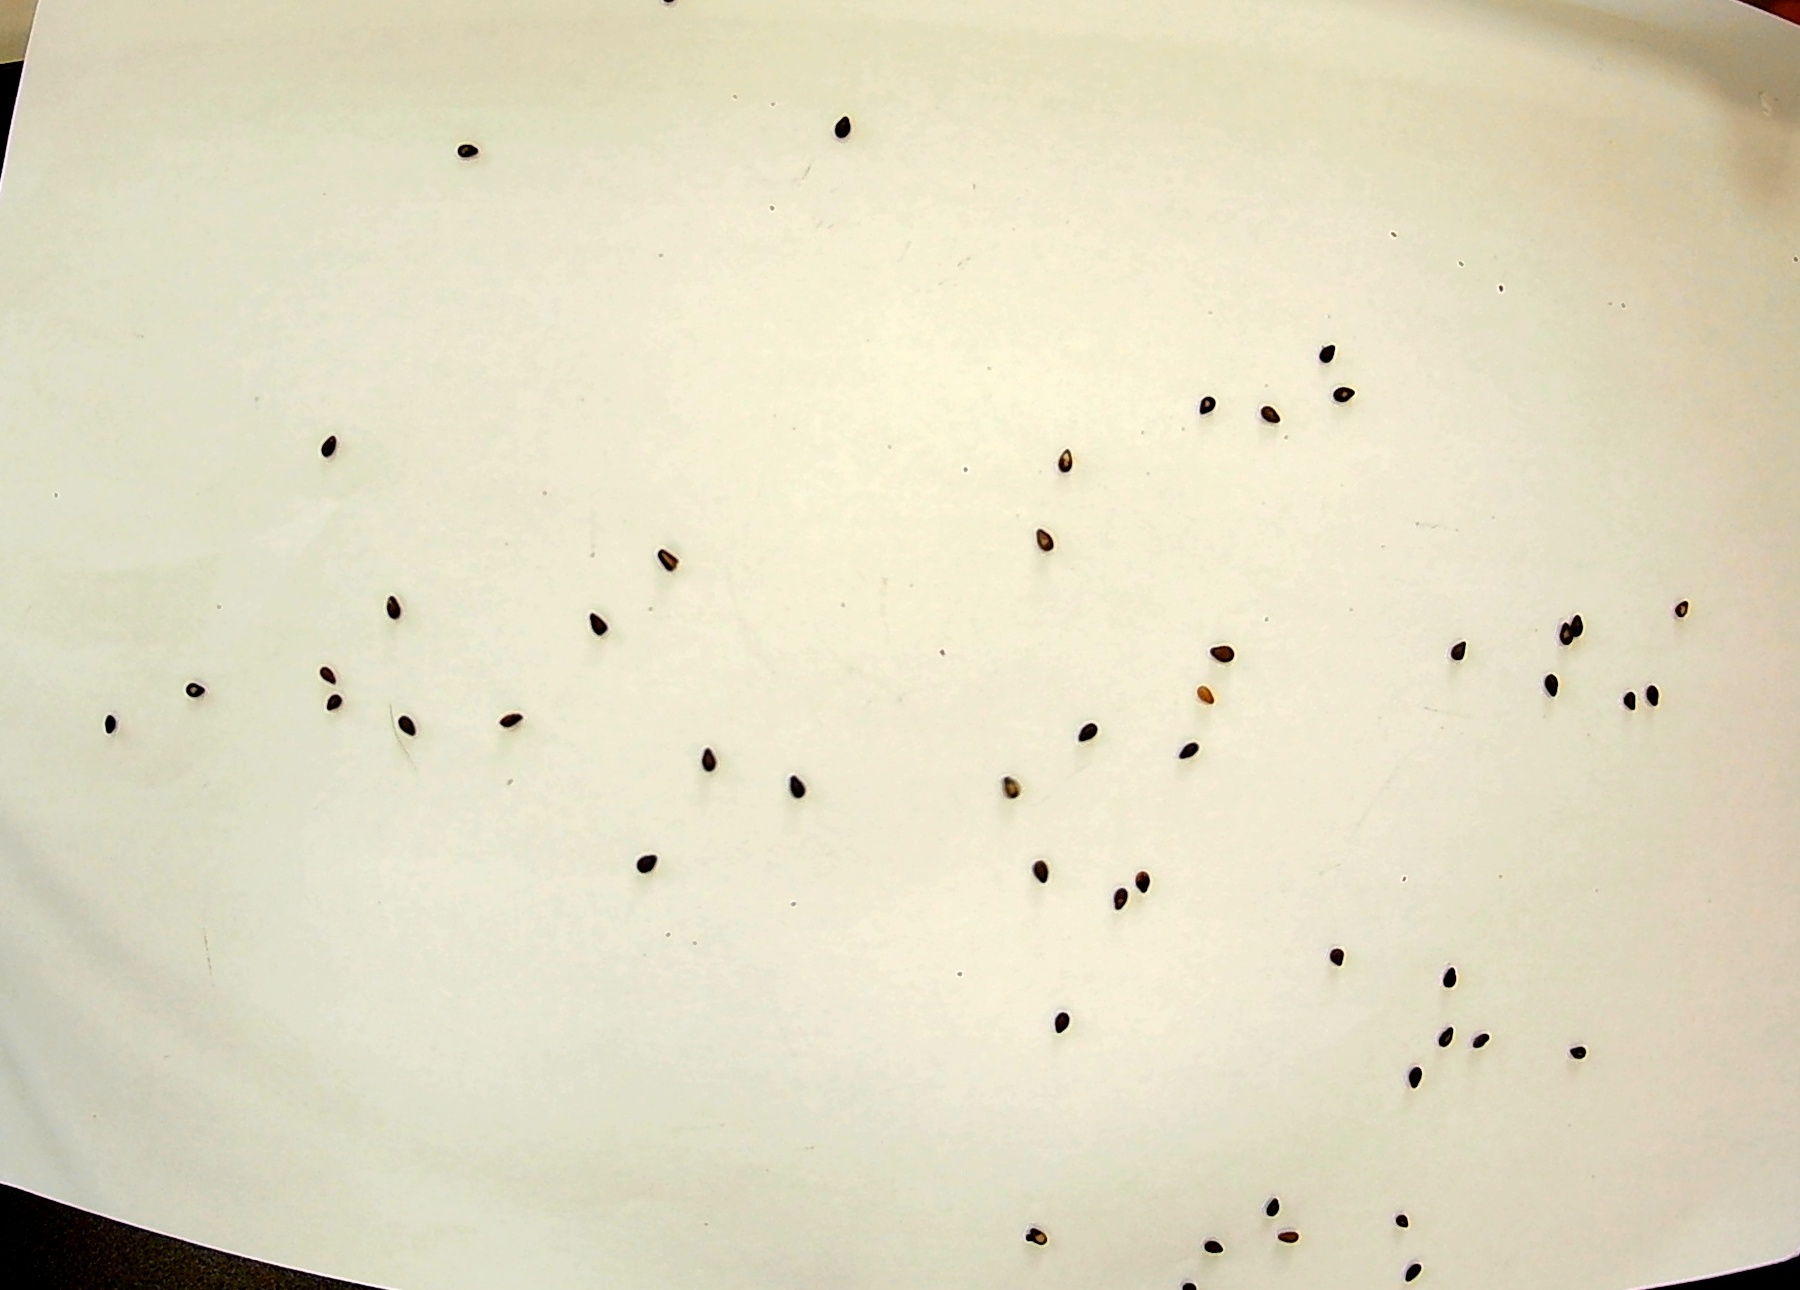sesami: (830, 106, 873, 161), (381, 706, 435, 746), (1045, 1002, 1088, 1046), (580, 603, 622, 644), (1201, 1233, 1247, 1269), (1614, 683, 1655, 719), (1538, 665, 1568, 712), (315, 419, 345, 468), (1252, 399, 1288, 438), (378, 589, 419, 624), (1393, 1256, 1437, 1287), (650, 543, 687, 581), (1047, 443, 1093, 472), (1031, 524, 1066, 561), (1097, 881, 1139, 912), (92, 704, 128, 739), (699, 739, 731, 778), (1196, 384, 1227, 424), (1180, 677, 1222, 706), (1204, 631, 1239, 666), (1126, 859, 1161, 894), (996, 773, 1031, 807), (1640, 674, 1669, 713), (1072, 711, 1100, 750), (1557, 1035, 1600, 1060), (1543, 618, 1577, 651), (1324, 938, 1355, 973), (781, 766, 812, 800), (1027, 1226, 1065, 1252), (1023, 860, 1058, 888), (1261, 1229, 1298, 1255), (1307, 342, 1340, 371), (631, 850, 666, 877), (1173, 734, 1199, 771), (447, 140, 486, 162), (1469, 1023, 1494, 1054), (1669, 595, 1695, 623), (1327, 384, 1358, 408), (1434, 962, 1465, 986), (179, 677, 209, 699), (313, 692, 347, 712), (1430, 1023, 1465, 1043), (1441, 639, 1468, 665), (1260, 1194, 1284, 1222), (315, 665, 340, 690), (1393, 1210, 1413, 1236), (500, 711, 530, 727)
